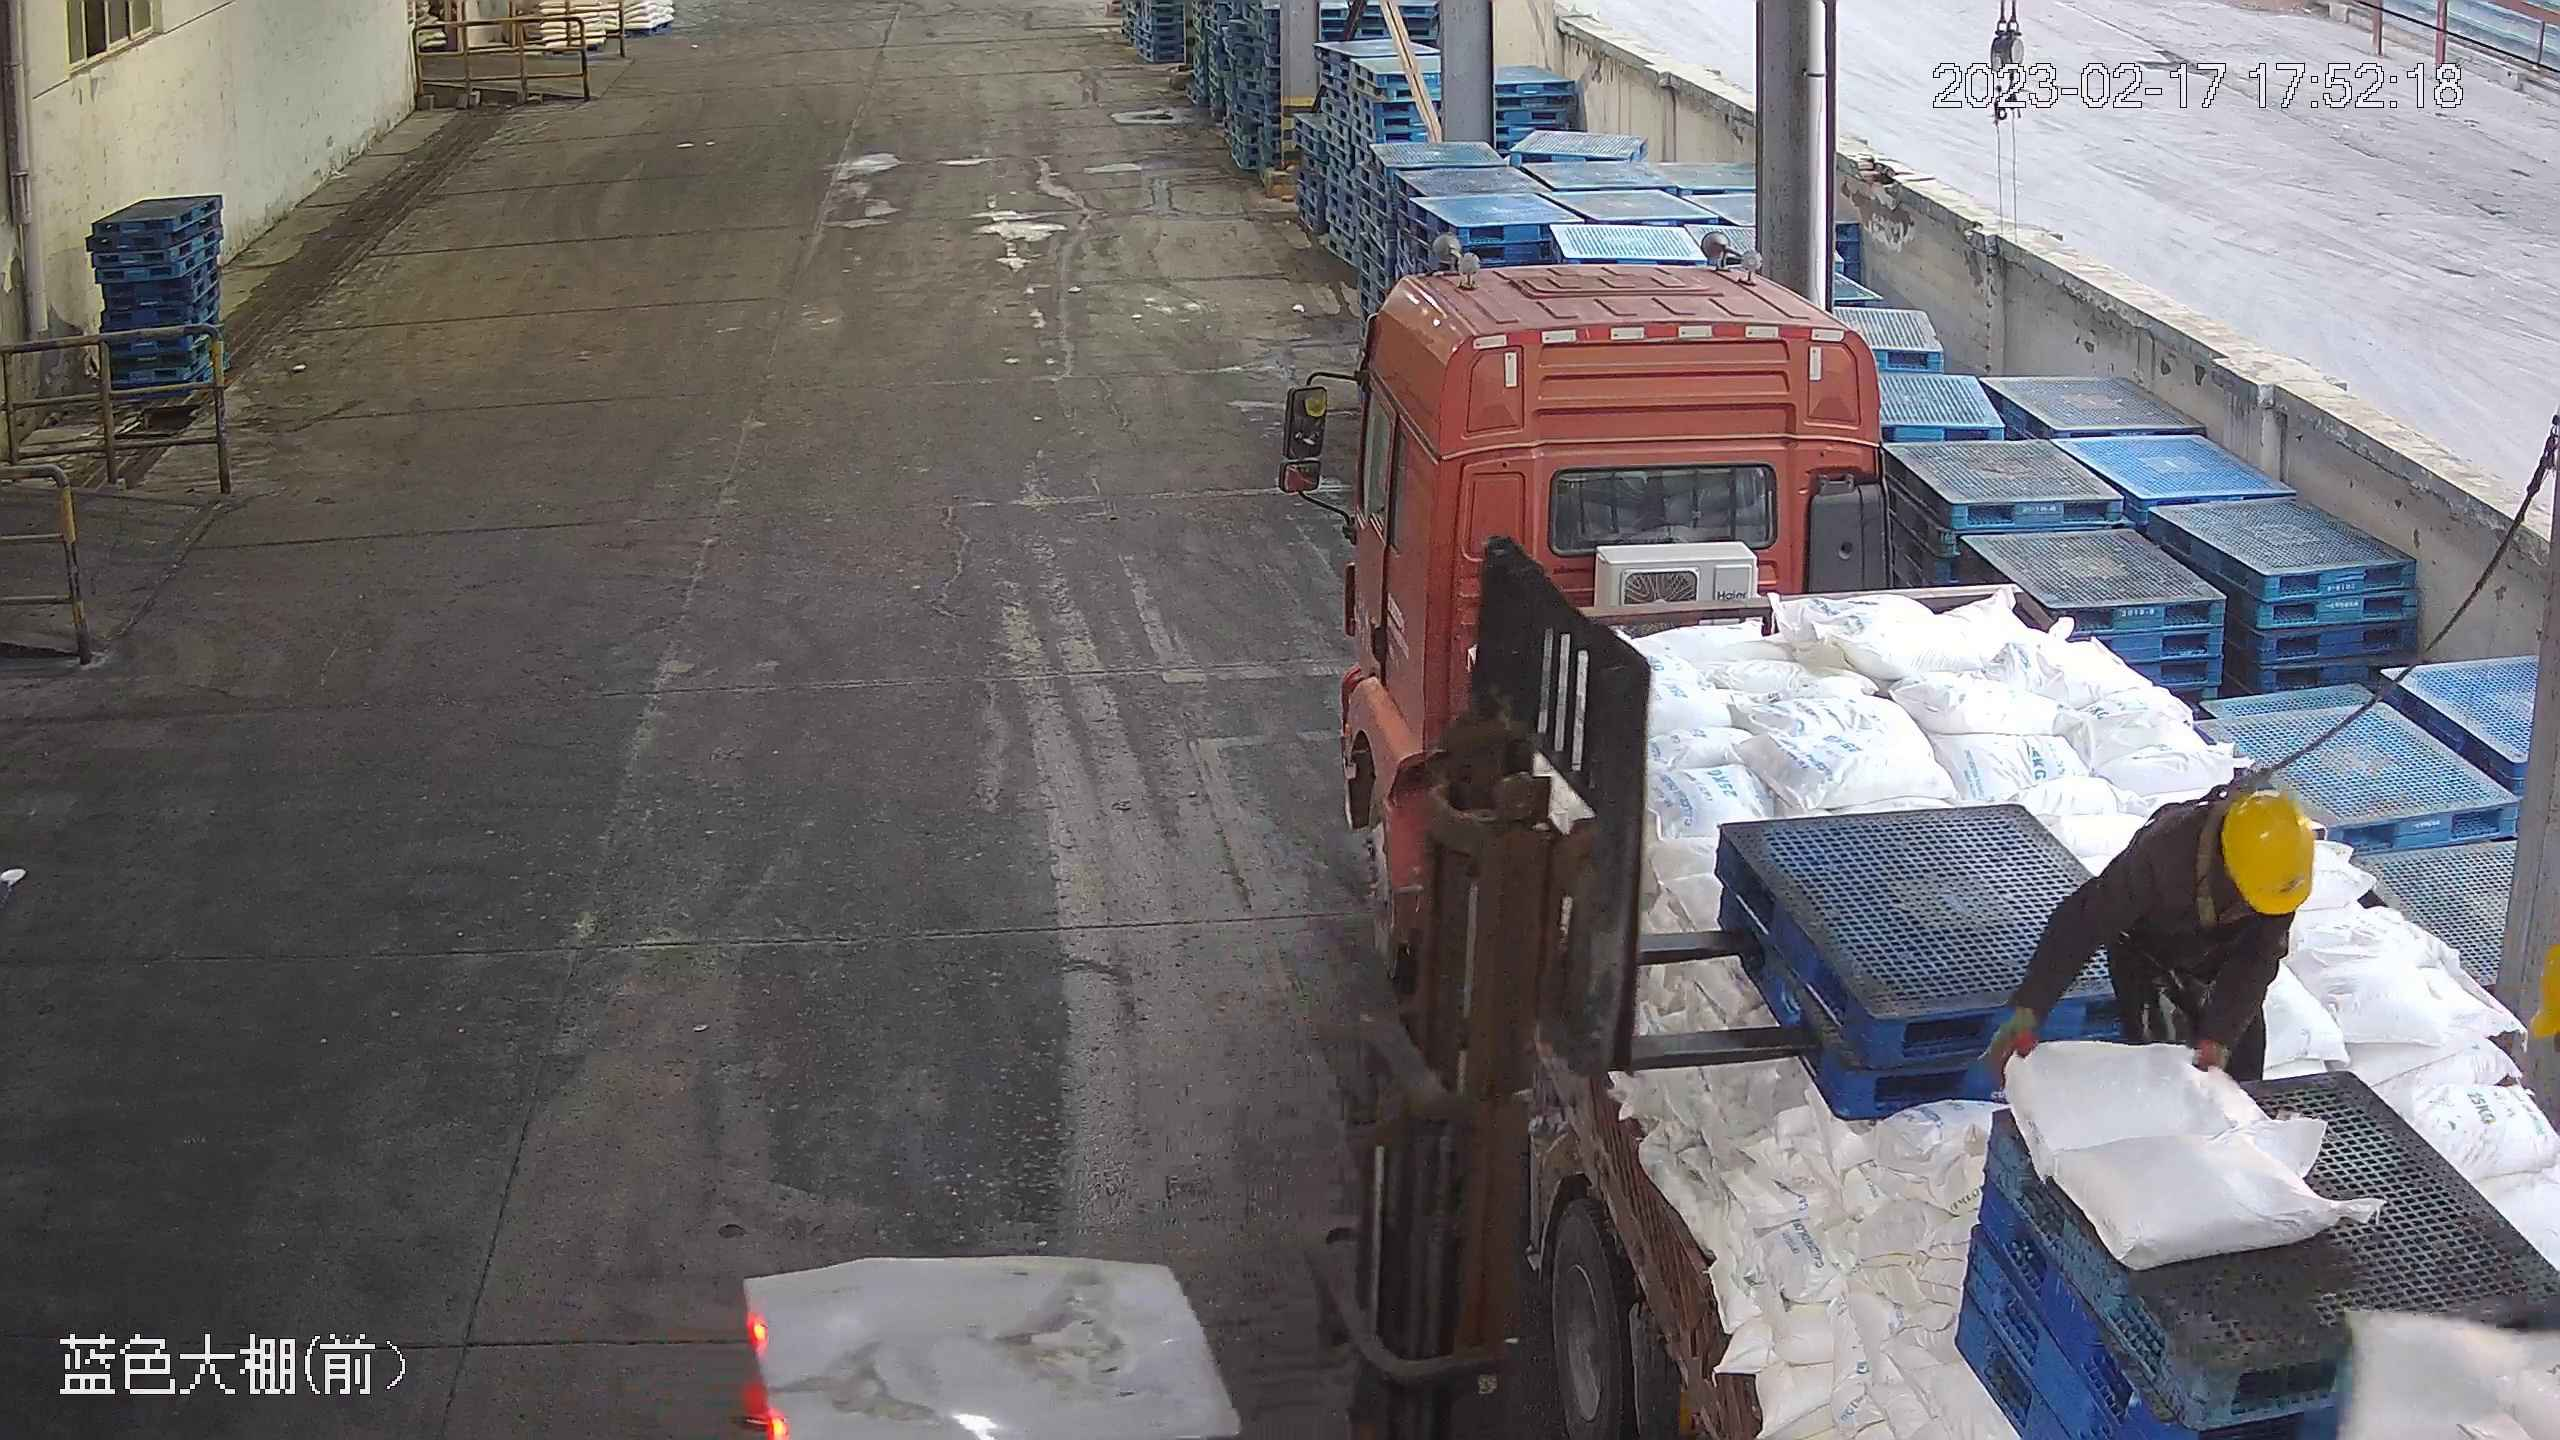belt: (2191, 794, 2254, 930)
head: (2141, 781, 2316, 937)
helmet: (2218, 790, 2317, 918)
people: (1983, 779, 2315, 1112)
truck: (1275, 225, 2557, 1440)
